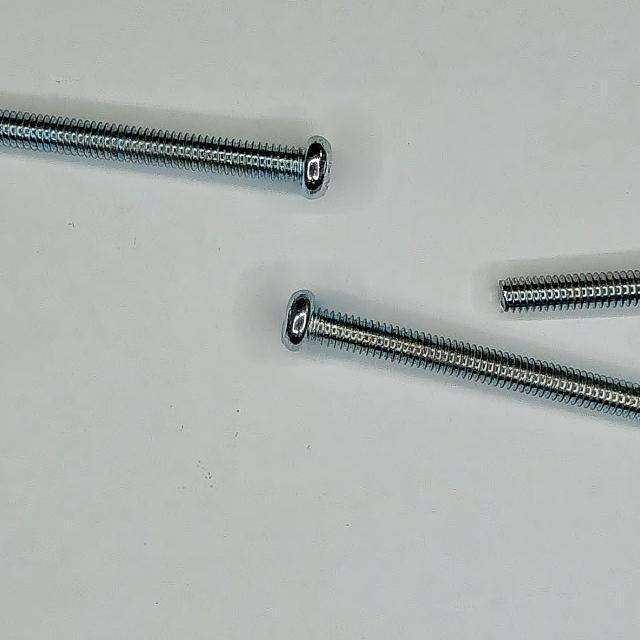Screw: (282, 290, 640, 420), (0, 110, 331, 198), (489, 250, 640, 320)
